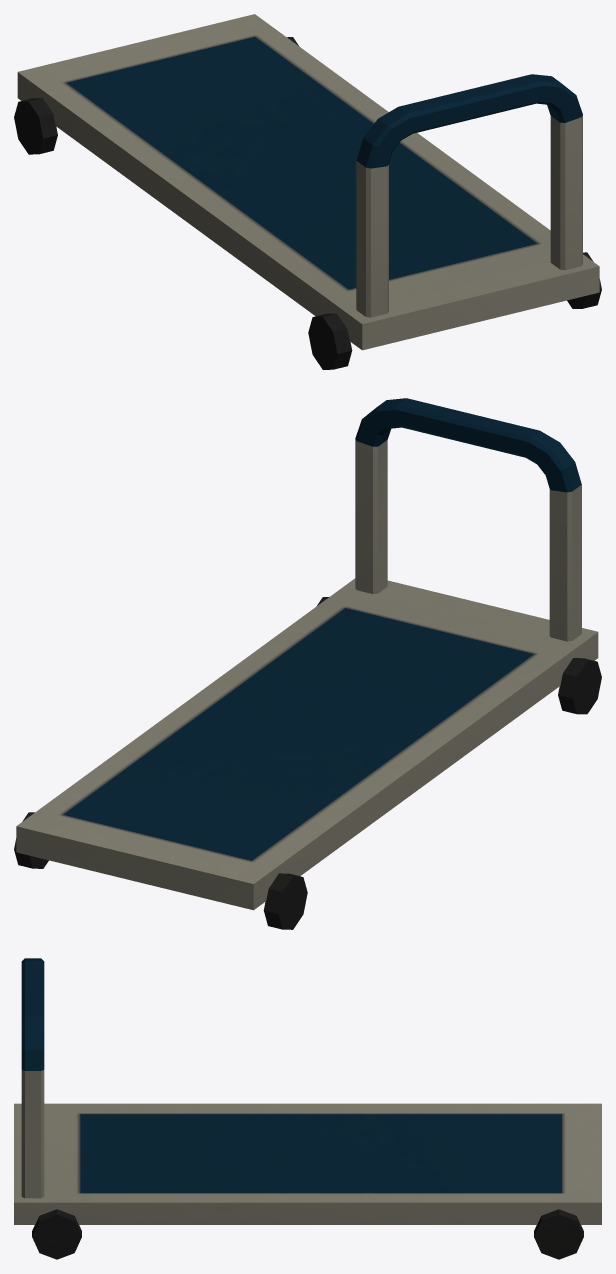
File: TyöntöKätty.fbx
3 views of the same model, one above another, from view 1: azimuth 30°, elevation 25°; view 2: azimuth 150°, elevation 25°; view 3: azimuth 270°, elevation 25° (orthographic). The views are drawn at different scales.
Parts seen in each view (by area): view 1: Kärry; view 2: Kärry; view 3: Kärry.
Boxes of the visible parts, bbox=[...] form: Kärry: bbox=[14, 14, 601, 369]; Kärry: bbox=[14, 398, 601, 929]; Kärry: bbox=[14, 958, 601, 1259].
Bounding box in the file's own units: 519 × 476 × 1172.
Materials: 1 (1 with a texture image).
